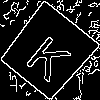K: (23, 26, 79, 84)
